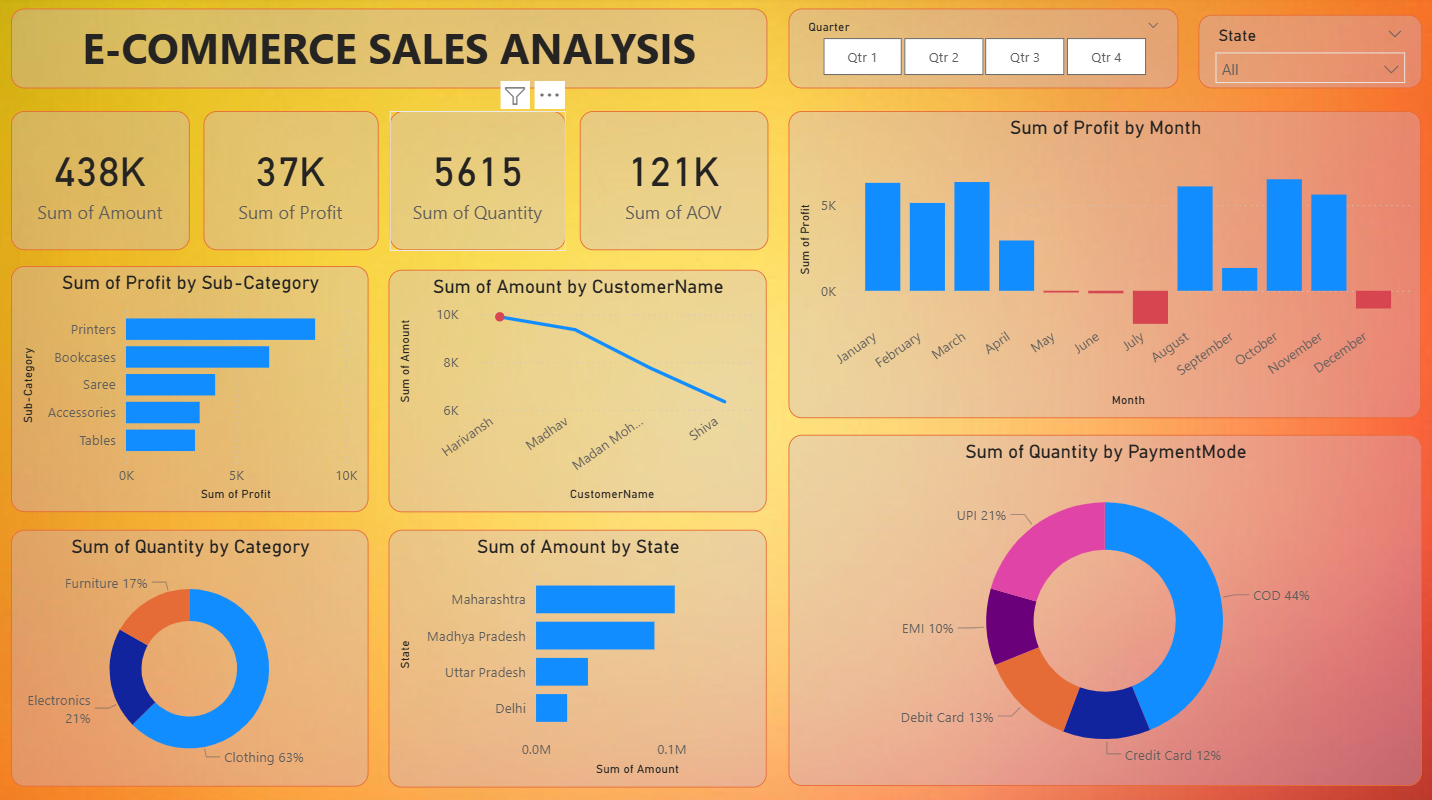

The page's visual inventory and layout, read from the dashboard file:
{"tool":"powerbi","page":{"name":"Page 1","canvas":[1280,720],"ordinal":0},"visuals":[{"type":"textbox","box":[13.7,11,673.8,71.4],"z":0},{"type":"columnChart","fields":{"Y":["Sheet1.Profit"],"Category":["Sheet1 (2).Order Date.Variation.Date Hierarchy.Month"]},"box":[705.8,102.5,563.4,273.9],"z":1000},{"type":"barChart","fields":{"Category":["Sheet1.Sub-Category"],"Y":["Sheet1.Profit"]},"box":[13.3,240.1,318.5,219.6],"z":2000},{"type":"donutChart","fields":{"Category":["Sheet1.Category"],"Y":["Sheet1.Quantity"]},"box":[13.7,474.8,318.4,229.2],"z":3000},{"type":"donutChart","fields":{"Y":["Sheet1.Quantity"],"Series":["Sheet1.PaymentMode"]},"box":[705.3,391.1,564,312.9],"z":4000},{"type":"card","fields":{"Values":["Sheet1.Amount"]},"box":[13.3,102.5,159.3,124.3],"z":5000},{"type":"card","fields":{"Values":["Sheet1.Profit"]},"box":[184.6,102.5,155.6,124.3],"z":6000},{"type":"card","fields":{"Values":["Sheet1.Quantity"]},"box":[351.1,102.5,156.8,124.3],"z":7000},{"type":"card","fields":{"Values":["Sheet1.AOV"]},"box":[520,102.5,167.7,124.3],"z":8000},{"type":"barChart","fields":{"Y":["Sheet1.Amount"],"Category":["Sheet1 (2).State"]},"box":[349.9,475.3,336.6,229.2],"z":9000},{"type":"lineChart","fields":{"Y":["Sheet1.Amount"],"Category":["Sheet1 (2).CustomerName"]},"box":[349.9,243.7,336.6,216],"z":10000},{"type":"slicer","fields":{"Values":["Sheet1 (2).Order Date.Variation.Date Hierarchy.Quarter"]},"box":[705.3,11,347.2,71.4],"z":11000},{"type":"slicer","fields":{"Values":["Sheet1 (2).State"]},"box":[1070.3,16.5,199,65.9],"z":12000}]}

Visuals, with their boxes in screenshot pixels (x1, y1, x2, y2), scaled from the page's 1280x720 canvas onto the 1432x800 screenshot:
textbox: region(15, 12, 769, 92)
columnChart - Sheet1.Profit x Sheet1 (2).Order Date.Variation.Date Hierarchy.Month: region(790, 114, 1420, 418)
barChart - Sheet1.Sub-Category x Sheet1.Profit: region(15, 267, 371, 511)
donutChart - Sheet1.Category x Sheet1.Quantity: region(15, 528, 372, 782)
donutChart - Sheet1.Quantity x Sheet1.PaymentMode: region(789, 435, 1420, 782)
card - Sheet1.Amount: region(15, 114, 193, 252)
card - Sheet1.Profit: region(207, 114, 381, 252)
card - Sheet1.Quantity: region(393, 114, 568, 252)
card - Sheet1.AOV: region(582, 114, 769, 252)
barChart - Sheet1.Amount x Sheet1 (2).State: region(391, 528, 768, 783)
lineChart - Sheet1.Amount x Sheet1 (2).CustomerName: region(391, 271, 768, 511)
slicer - Sheet1 (2).Order Date.Variation.Date Hierarchy.Quarter: region(789, 12, 1177, 92)
slicer - Sheet1 (2).State: region(1197, 18, 1420, 92)
